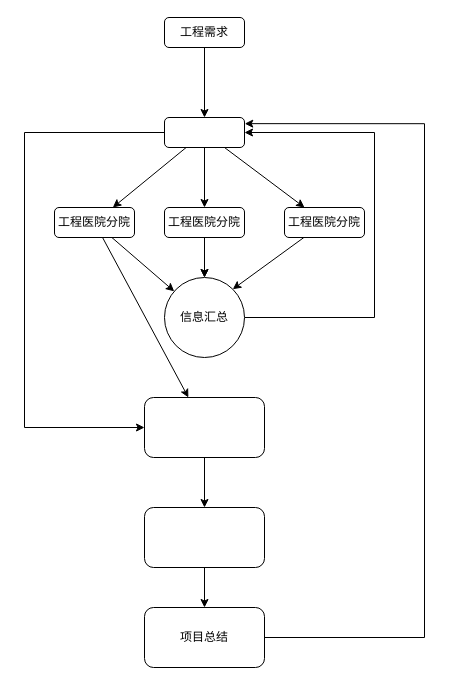
This 450x685 diagram has some shape labels left out. Each missing label, with the centre of its shape:
工程医院总院: the point at 204,132
形成专家组，匹配实体单位: the point at 204,427
项目实施: the point at 204,537
